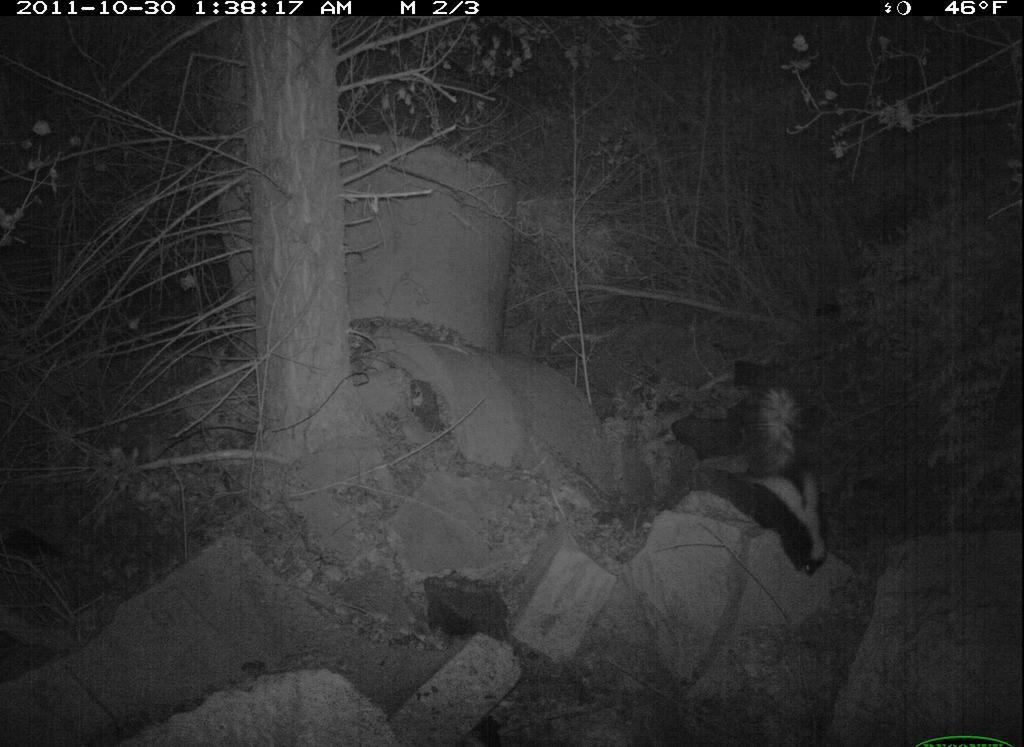skunk: (724, 373, 838, 588)
